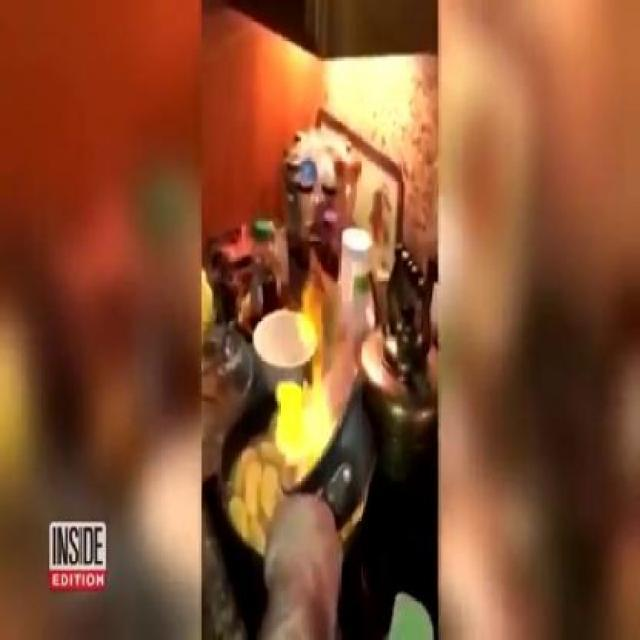fire: (270, 340, 332, 458)
